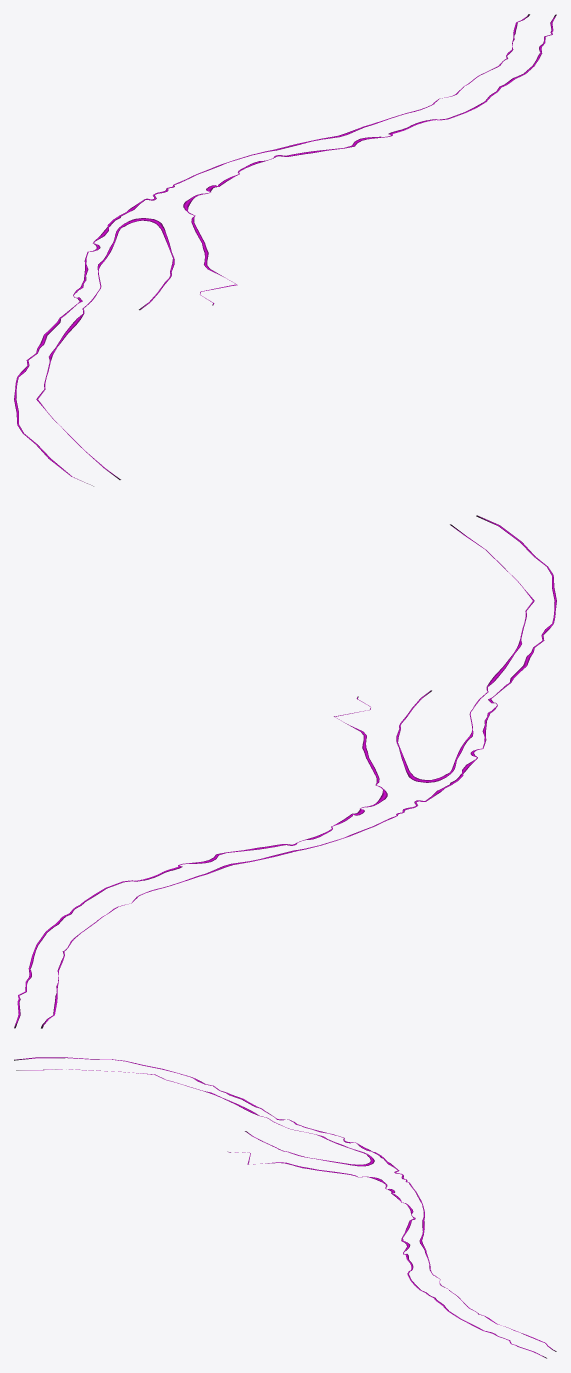
The model's file is VFX_RiverBorder.fbx.
3 renders of one model, top to bottom at view 1: azimuth 30°, elevation 25°; view 2: azimuth 210°, elevation 25°; view 3: azimuth 270°, elevation 25°, orthographic. The views are drawn at different scales.
Parts seen in each view (by area): view 1: RiverBorderGeoBigUV; view 2: RiverBorderGeoBigUV; view 3: RiverBorderGeoBigUV.
Part boxes in pixels (<box>): RiverBorderGeoBigUV: <box>14,14,556,486</box>; RiverBorderGeoBigUV: <box>14,515,556,1028</box>; RiverBorderGeoBigUV: <box>14,1057,556,1358</box>.
Size of the model in its own units: 4627 by 110 by 3700.
